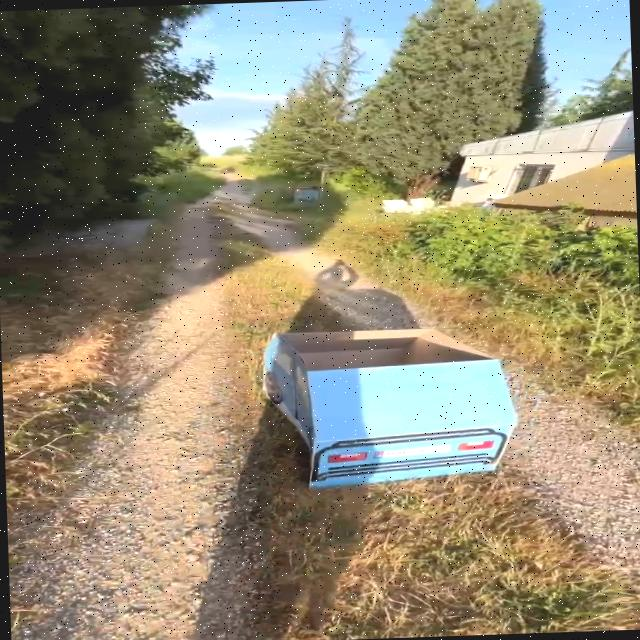blue_car: (207, 300, 545, 508)
